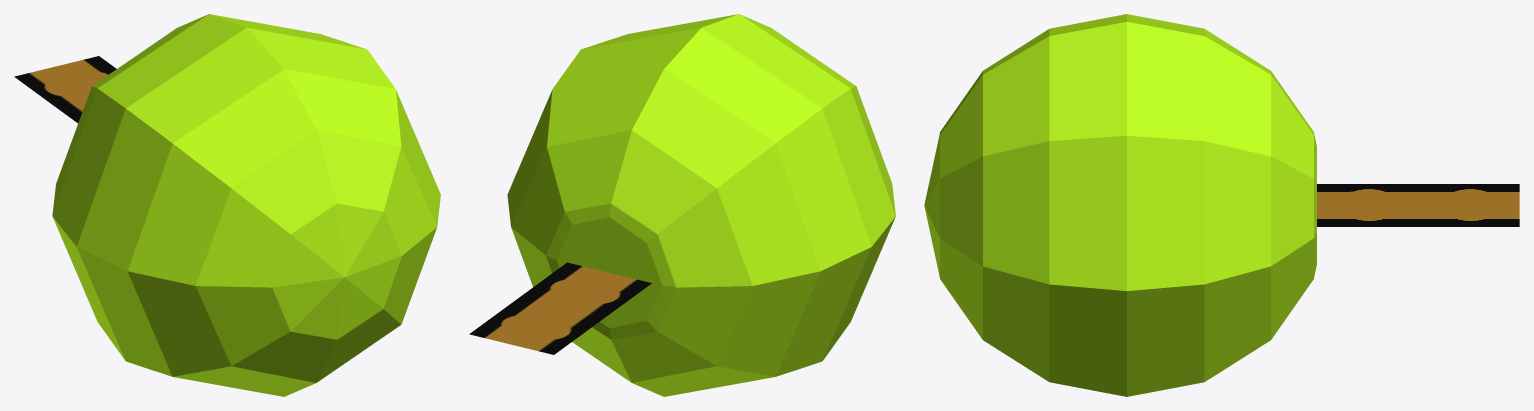
Rendered from tree_short.obj.
The picture shows the model from 3 angles, left to right: view 1: azimuth 30°, elevation 25°; view 2: azimuth 150°, elevation 25°; view 3: azimuth 270°, elevation 25°; orthographic projection. The views are drawn at different scales.
Visible parts, largest first — view 1: mat0model0surf58, mat0model0surf46, mat0model0surf62, mat0model0surf50, mat0model0surf60, mat0model0surf52, mat0model0surf42, mat0model0surf17, mat0model0surf63, mat0model0surf54, mat0model0surf51, mat0model0surf19 (+21 smaller); view 2: mat0model0surf59, mat0model0surf47, mat4model0surf0, mat0model0surf63, mat0model0surf51, mat0model0surf61, mat0model0surf53, mat0model0surf43, mat0model0surf18, mat0model0surf25, mat0model0surf62, mat0model0surf55 (+20 smaller); view 3: mat0model0surf1, mat0model0surf2, mat4model0surf0, mat0model0surf15, mat0model0surf16, mat0model0surf5, mat0model0surf6, mat0model0surf3, mat0model0surf4, mat0model0surf17, mat0model0surf18, mat0model0surf7 (+9 smaller).
Boxes of the visible parts, x1=… form: mat0model0surf58: x1=127, y1=144, x2=231, y2=285; mat0model0surf46: x1=173, y1=69, x2=315, y2=187; mat0model0surf62: x1=77, y1=109, x2=172, y2=270; mat0model0surf50: x1=126, y1=27, x2=283, y2=143; mat0model0surf60: x1=127, y1=271, x2=230, y2=376; mat0model0surf52: x1=195, y1=188, x2=290, y2=287; mat0model0surf42: x1=231, y1=130, x2=336, y2=234; mat0model0surf17: x1=284, y1=69, x2=401, y2=146; mat0model0surf63: x1=52, y1=88, x2=125, y2=246; mat0model0surf54: x1=195, y1=286, x2=290, y2=365; mat0model0surf51: x1=98, y1=14, x2=246, y2=108; mat0model0surf19: x1=316, y1=130, x2=401, y2=211; mat0model0surf59: x1=717, y1=144, x2=820, y2=285; mat0model0surf47: x1=632, y1=69, x2=775, y2=187; mat4model0surf0: x1=469, y1=262, x2=651, y2=354; mat0model0surf63: x1=775, y1=108, x2=871, y2=270; mat0model0surf51: x1=664, y1=27, x2=822, y2=143; mat0model0surf61: x1=717, y1=271, x2=820, y2=376; mat0model0surf53: x1=657, y1=188, x2=752, y2=287; mat0model0surf43: x1=611, y1=130, x2=716, y2=234; mat0model0surf18: x1=547, y1=69, x2=663, y2=146; mat0model0surf25: x1=556, y1=217, x2=662, y2=328; mat0model0surf62: x1=822, y1=88, x2=895, y2=246; mat0model0surf55: x1=658, y1=286, x2=752, y2=365; mat0model0surf1: x1=1049, y1=136, x2=1126, y2=290; mat0model0surf2: x1=1127, y1=136, x2=1204, y2=290; mat4model0surf0: x1=1317, y1=184, x2=1519, y2=226; mat0model0surf15: x1=1049, y1=22, x2=1126, y2=140; mat0model0surf16: x1=1127, y1=22, x2=1204, y2=140; mat0model0surf5: x1=983, y1=141, x2=1049, y2=284; mat0model0surf6: x1=1204, y1=141, x2=1270, y2=284; mat0model0surf3: x1=1049, y1=284, x2=1126, y2=396; mat0model0surf4: x1=1127, y1=284, x2=1204, y2=396; mat0model0surf17: x1=983, y1=36, x2=1049, y2=156; mat0model0surf18: x1=1204, y1=36, x2=1270, y2=156; mat0model0surf7: x1=983, y1=266, x2=1049, y2=381.
Bounding box in the file's own units: 32 × 32 × 47.
